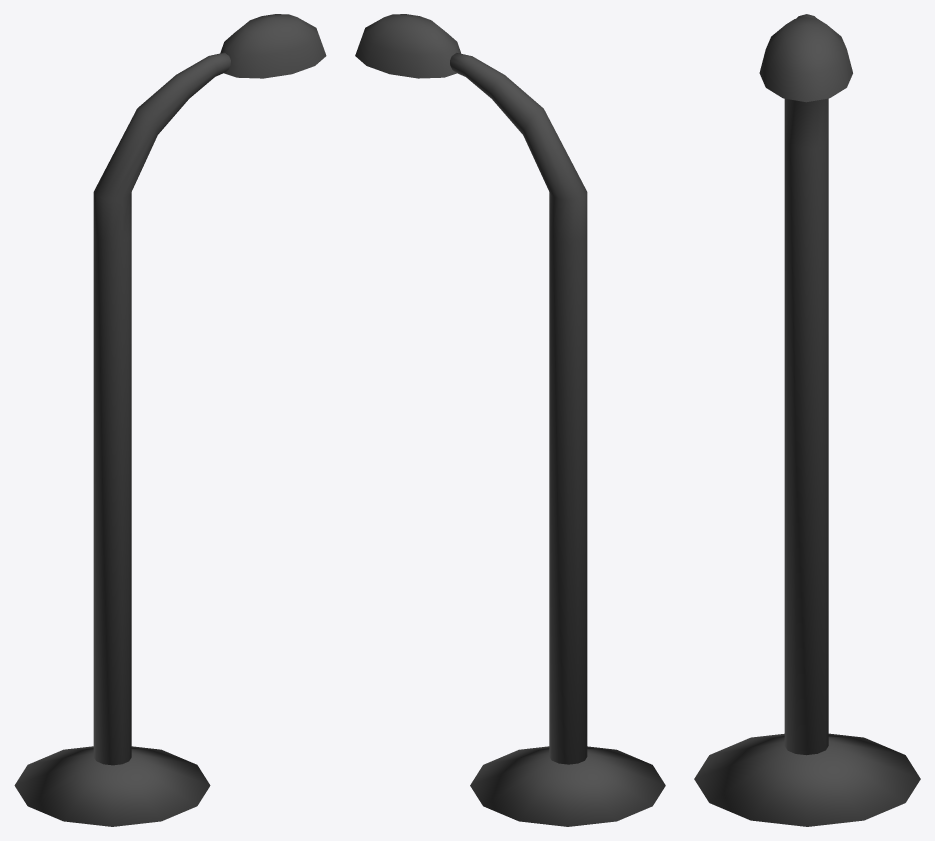
3 renders of one model, left to right at view 1: azimuth 30°, elevation 25°; view 2: azimuth 150°, elevation 25°; view 3: azimuth 270°, elevation 25°, orthographic. The views are drawn at different scales.
Visible parts, largest first — view 1: 球體.001; view 2: 球體.001; view 3: 球體.001.
Part boxes in pixels (x1,y1,x2,y2): 球體.001: (14,14,326,826); 球體.001: (355,14,665,826); 球體.001: (694,14,920,826).
Bounding box in the file's own units: 43.47 × 25 × 103.
Materials: 2 (2 with a texture image).
